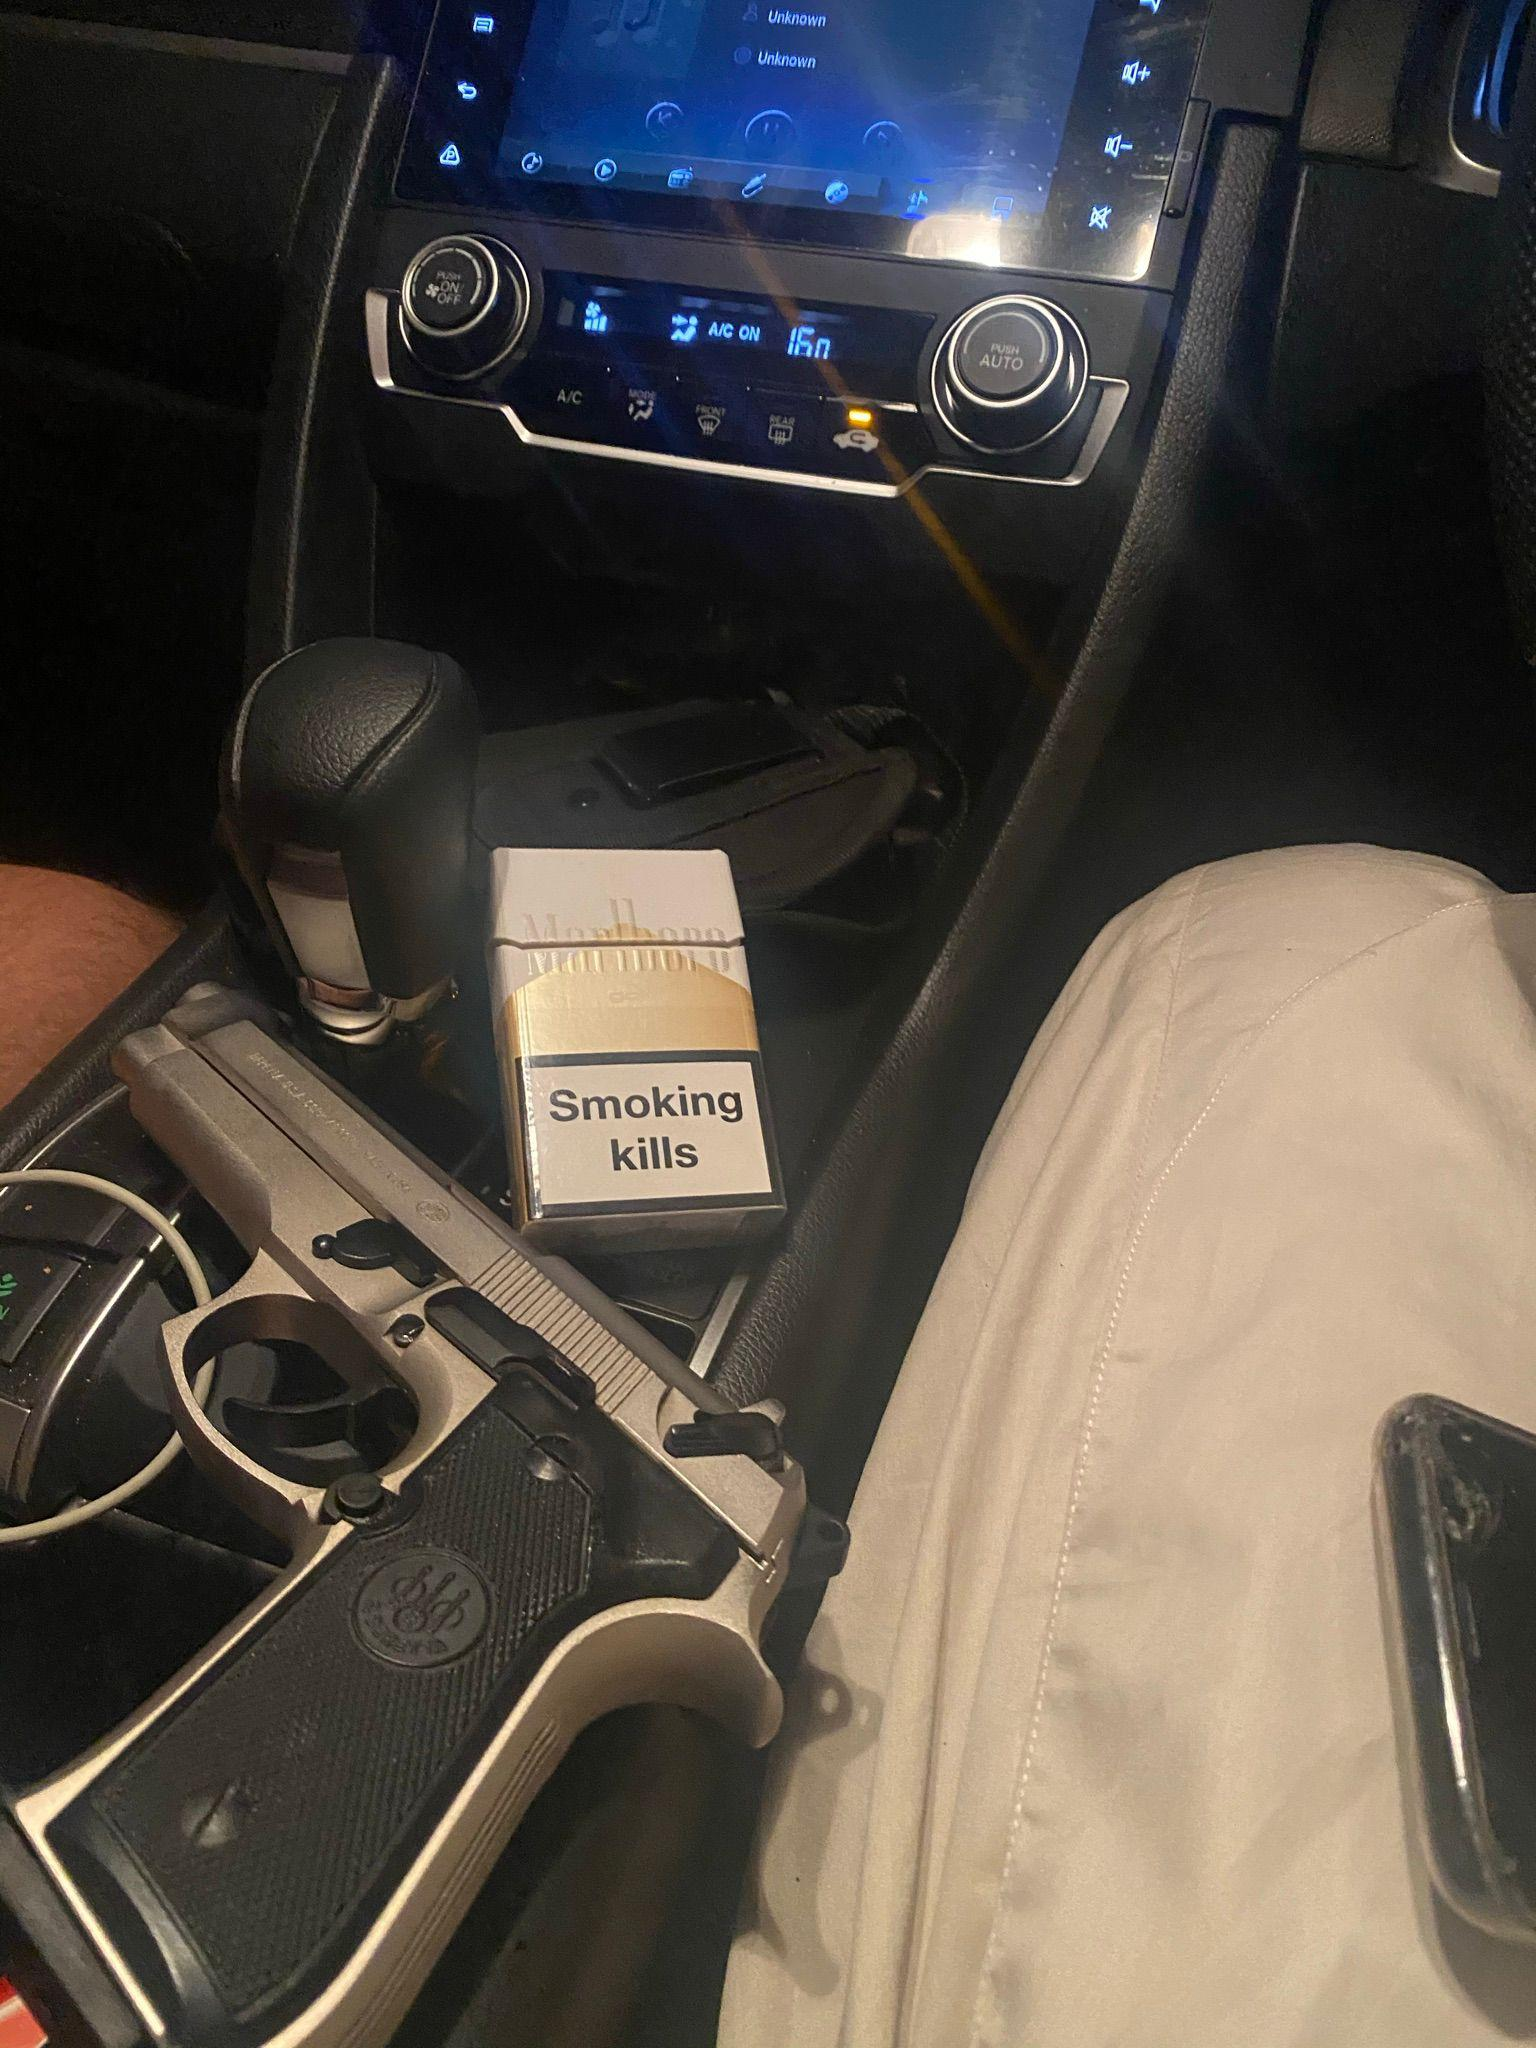weapon: (0, 986, 861, 2048)
